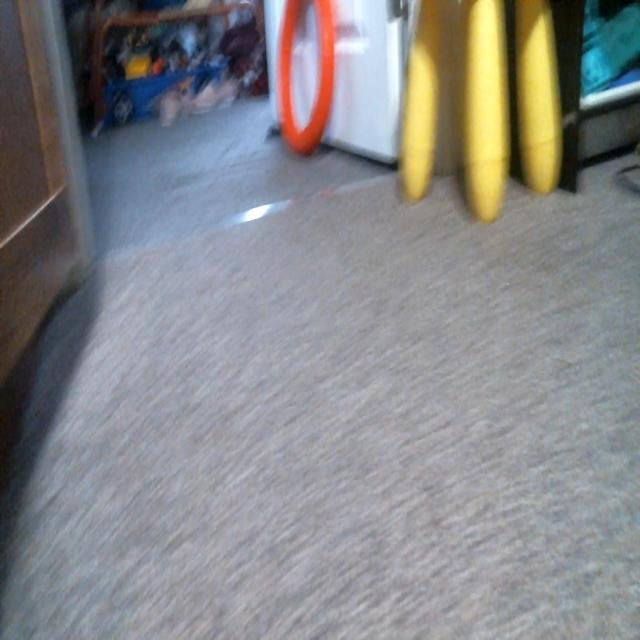note: (277, 0, 337, 161)
